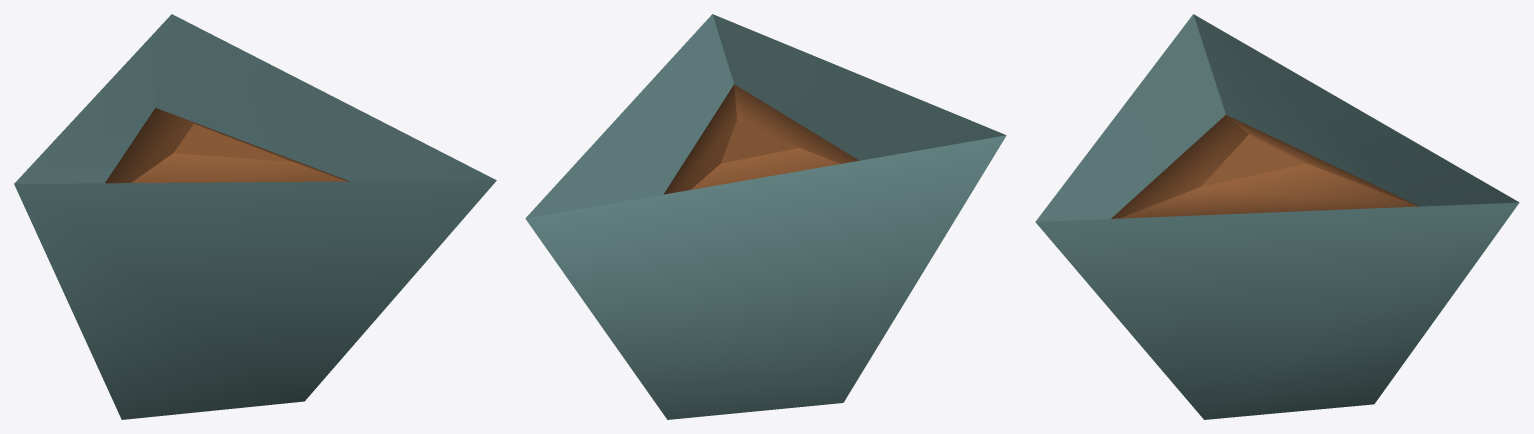
File: c_deco_vase_triangle_ac.fbx
3 views of the same model, side by side, from view 1: azimuth 30°, elevation 25°; view 2: azimuth 150°, elevation 25°; view 3: azimuth 270°, elevation 25° (orthographic). The views are drawn at different scales.
Parts seen in each view (by area): view 1: c_deco_vase_triangle_ac; view 2: c_deco_vase_triangle_ac; view 3: c_deco_vase_triangle_ac.
Boxes of the visible parts, x1=… form: c_deco_vase_triangle_ac: x1=14, y1=14, x2=496, y2=419; c_deco_vase_triangle_ac: x1=525, y1=14, x2=1006, y2=419; c_deco_vase_triangle_ac: x1=1035, y1=14, x2=1519, y2=419.
Size of the model in its own units: 0.5264 by 0.3723 by 0.6005.
